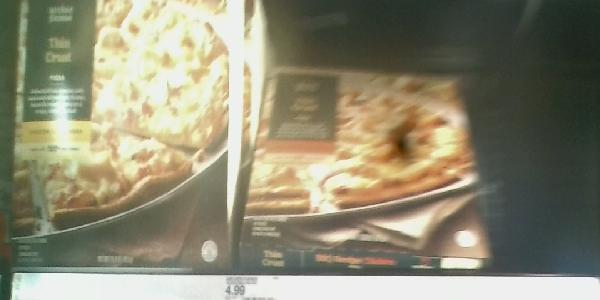pizza1: (11, 1, 233, 277), (240, 64, 496, 272)
